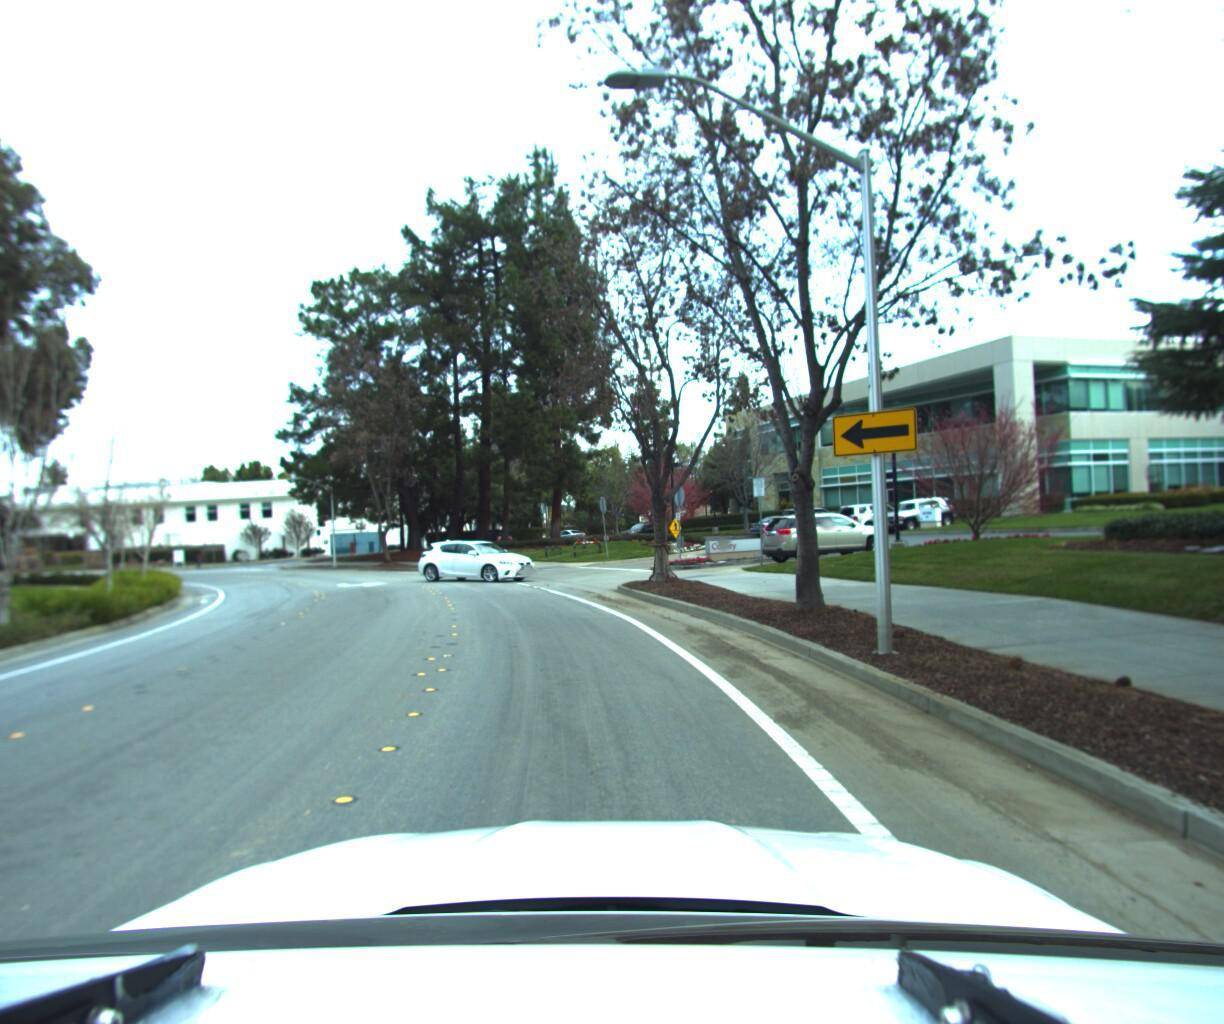car: (748, 501, 895, 560), (400, 535, 535, 582)
